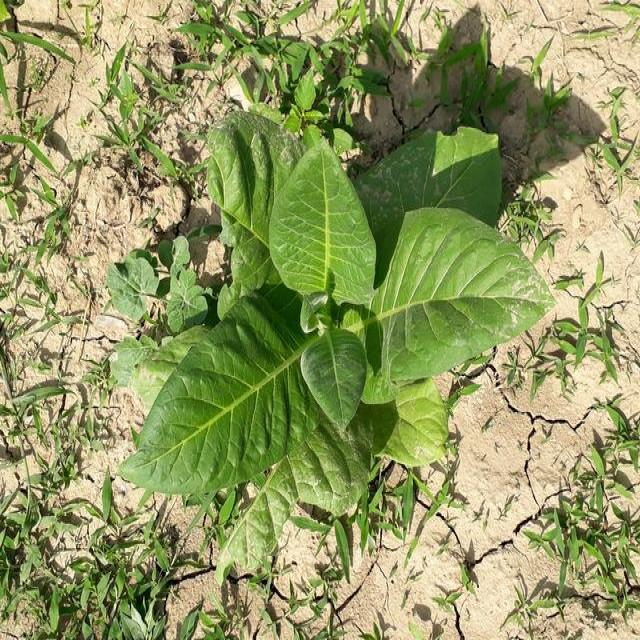crop: (145, 130, 530, 528)
